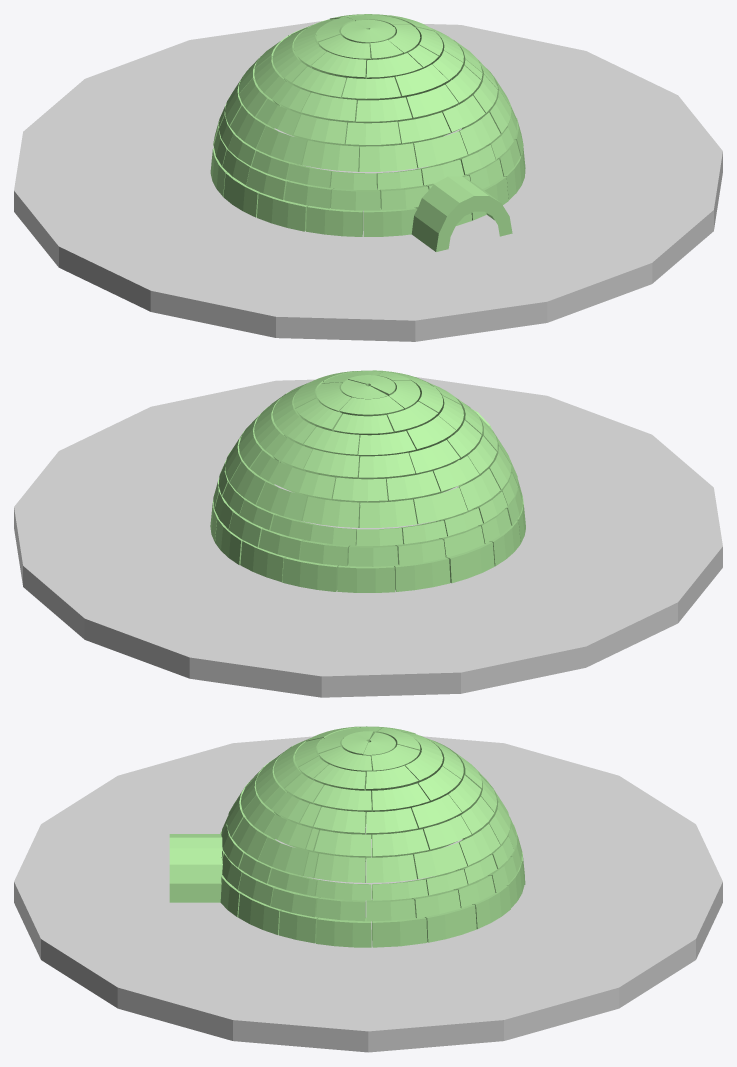
The model's file is igloo4.fbx.
3 views of the same model, one above another, from view 1: azimuth 30°, elevation 25°; view 2: azimuth 150°, elevation 25°; view 3: azimuth 270°, elevation 25° (orthographic).
Parts seen in each view (by area): view 1: Cylinder.001, Wall.002, Cylinder; view 2: Cylinder.001, Wall.002; view 3: Cylinder.001, Wall.002, Cylinder.
Part boxes in pixels (bbox=[...]): Cylinder.001: bbox=[14, 21, 722, 341]; Wall.002: bbox=[210, 14, 525, 236]; Cylinder: bbox=[411, 165, 512, 251]; Cylinder.001: bbox=[14, 377, 722, 697]; Wall.002: bbox=[210, 370, 525, 592]; Cylinder.001: bbox=[14, 736, 722, 1052]; Wall.002: bbox=[220, 726, 525, 947]; Cylinder: bbox=[169, 834, 223, 902].
Size of the model in its own units: 7260 by 1832 by 7260.
